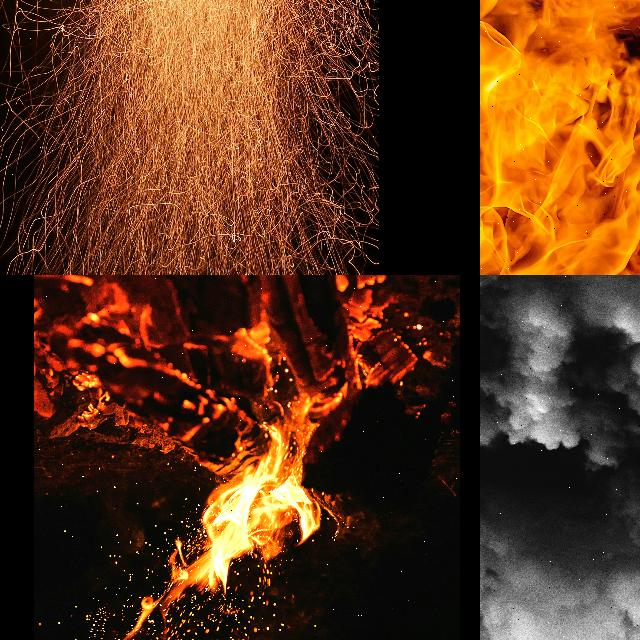fire: (34, 275, 460, 617), (0, 0, 379, 275), (480, 0, 640, 275)
smoke: (480, 275, 640, 640)
